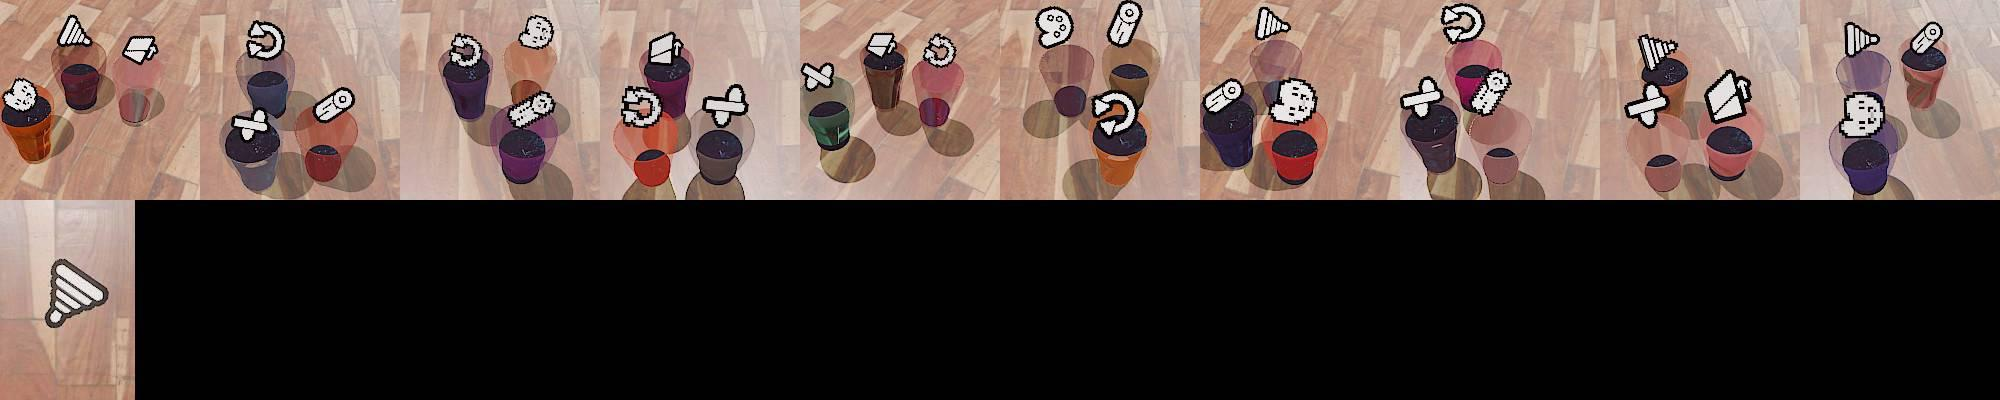icon: (38, 254, 113, 329), (1703, 68, 1754, 123), (1090, 88, 1140, 141), (1265, 76, 1319, 124), (1467, 66, 1513, 116), (1839, 91, 1886, 138), (1625, 81, 1670, 127), (702, 82, 749, 126), (1401, 73, 1445, 117), (1439, 2, 1484, 44), (507, 89, 555, 128), (1106, 0, 1144, 47), (620, 84, 662, 126), (245, 19, 286, 61), (1637, 33, 1680, 73), (1035, 6, 1074, 49), (312, 86, 355, 124), (1203, 76, 1244, 115), (2, 77, 41, 113), (647, 31, 684, 68), (1254, 5, 1291, 42), (232, 106, 272, 140), (518, 14, 555, 50), (56, 14, 94, 49), (1844, 21, 1880, 57), (448, 33, 484, 68), (922, 32, 956, 67), (1911, 21, 1945, 55), (121, 35, 159, 64), (800, 61, 835, 92), (865, 30, 897, 58)
